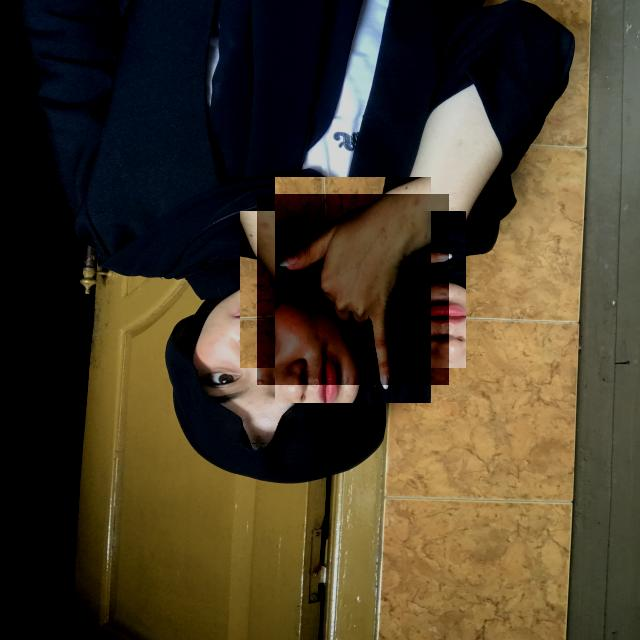telpon: (257, 194, 449, 385)
